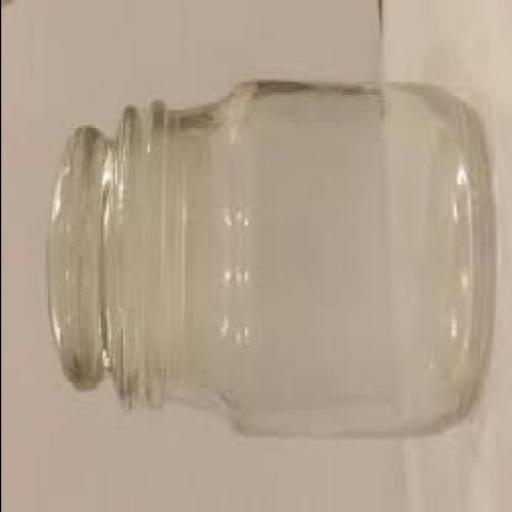glass: (44, 81, 494, 443)
